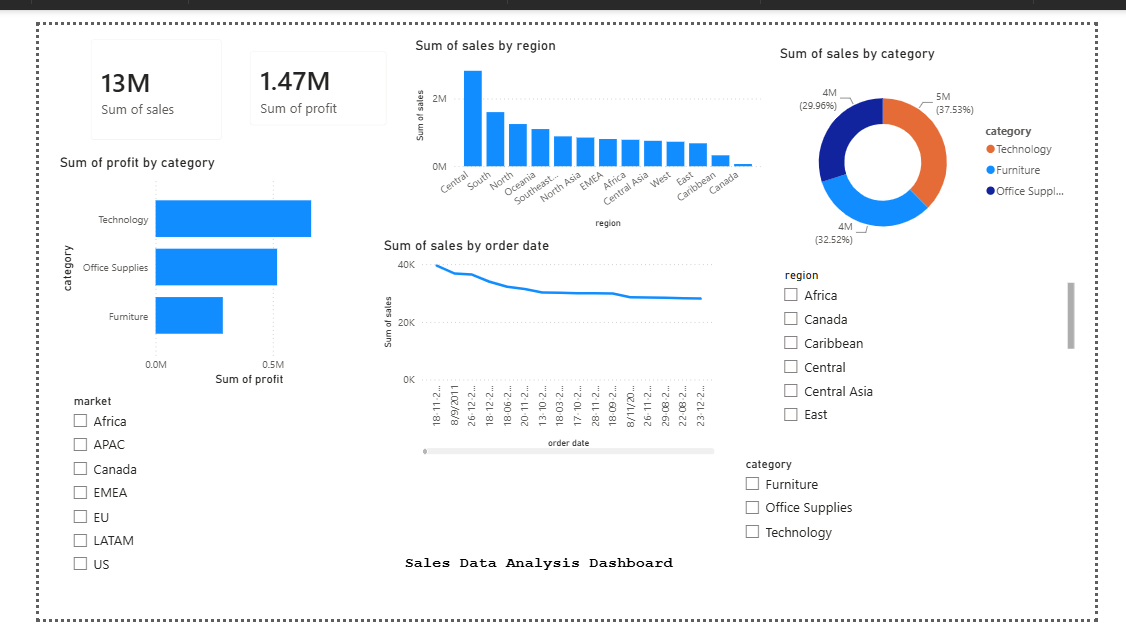

Layout of this report page (visuals, bound fields, positions):
{"tool":"powerbi","page":{"name":"Page 1","canvas":[1280,720],"ordinal":0},"visuals":[{"type":"cardVisual","fields":{"Data":["Sum(SuperStoreOrders.sales)"]},"box":[45.4,0,193.3,156.4],"z":0},{"type":"cardVisual","fields":{"Data":["Sum(SuperStoreOrders.profit)"]},"box":[238.7,15.1,200.1,124.4],"z":1000},{"type":"clusteredColumnChart","fields":{"Category":["SuperStoreOrders.region"],"Y":["Sum(SuperStoreOrders.sales)"]},"box":[450.9,14.5,429.1,236.4],"z":2000},{"type":"donutChart","fields":{"Category":["SuperStoreOrders.category"],"Y":["Sum(SuperStoreOrders.sales)"]},"box":[892.8,23.5,366.5,265.6],"z":3000},{"type":"clusteredBarChart","fields":{"Category":["SuperStoreOrders.category"],"Y":["Sum(SuperStoreOrders.profit)"]},"box":[20,156.4,367.3,285.5],"z":4000},{"type":"lineChart","fields":{"Category":["SuperStoreOrders.order date"],"Y":["Sum(SuperStoreOrders.sales)"]},"box":[412.7,256.4,410.9,269.1],"z":5000},{"type":"slicer","fields":{"Values":["SuperStoreOrders.region"]},"box":[890.9,289.1,369.1,201.8],"z":6000},{"type":"slicer","fields":{"Values":["SuperStoreOrders.category"]},"box":[843.6,518.2,367.3,201.8],"z":7000},{"type":"slicer","fields":{"Values":["SuperStoreOrders.market"]},"box":[29.1,441.8,409.1,261.8],"z":8000},{"type":"textbox","box":[438.2,636.4,369.1,67.3],"z":9000}]}

Visuals, with their boxes in screenshot pixels (x1, y1, x2, y2), scaled from the page's 1280x720 canvas onto the 1126x642 screenshot:
cardVisual - Sum(SuperStoreOrders.sales): <box>40,0,210,139</box>
cardVisual - Sum(SuperStoreOrders.profit): <box>210,13,386,124</box>
clusteredColumnChart - SuperStoreOrders.region x Sum(SuperStoreOrders.sales): <box>397,13,774,224</box>
donutChart - SuperStoreOrders.category x Sum(SuperStoreOrders.sales): <box>785,21,1108,258</box>
clusteredBarChart - SuperStoreOrders.category x Sum(SuperStoreOrders.profit): <box>18,139,341,394</box>
lineChart - SuperStoreOrders.order date x Sum(SuperStoreOrders.sales): <box>363,229,725,469</box>
slicer - SuperStoreOrders.region: <box>784,258,1108,438</box>
slicer - SuperStoreOrders.category: <box>742,462,1065,641</box>
slicer - SuperStoreOrders.market: <box>26,394,385,627</box>
textbox: <box>385,567,710,627</box>
